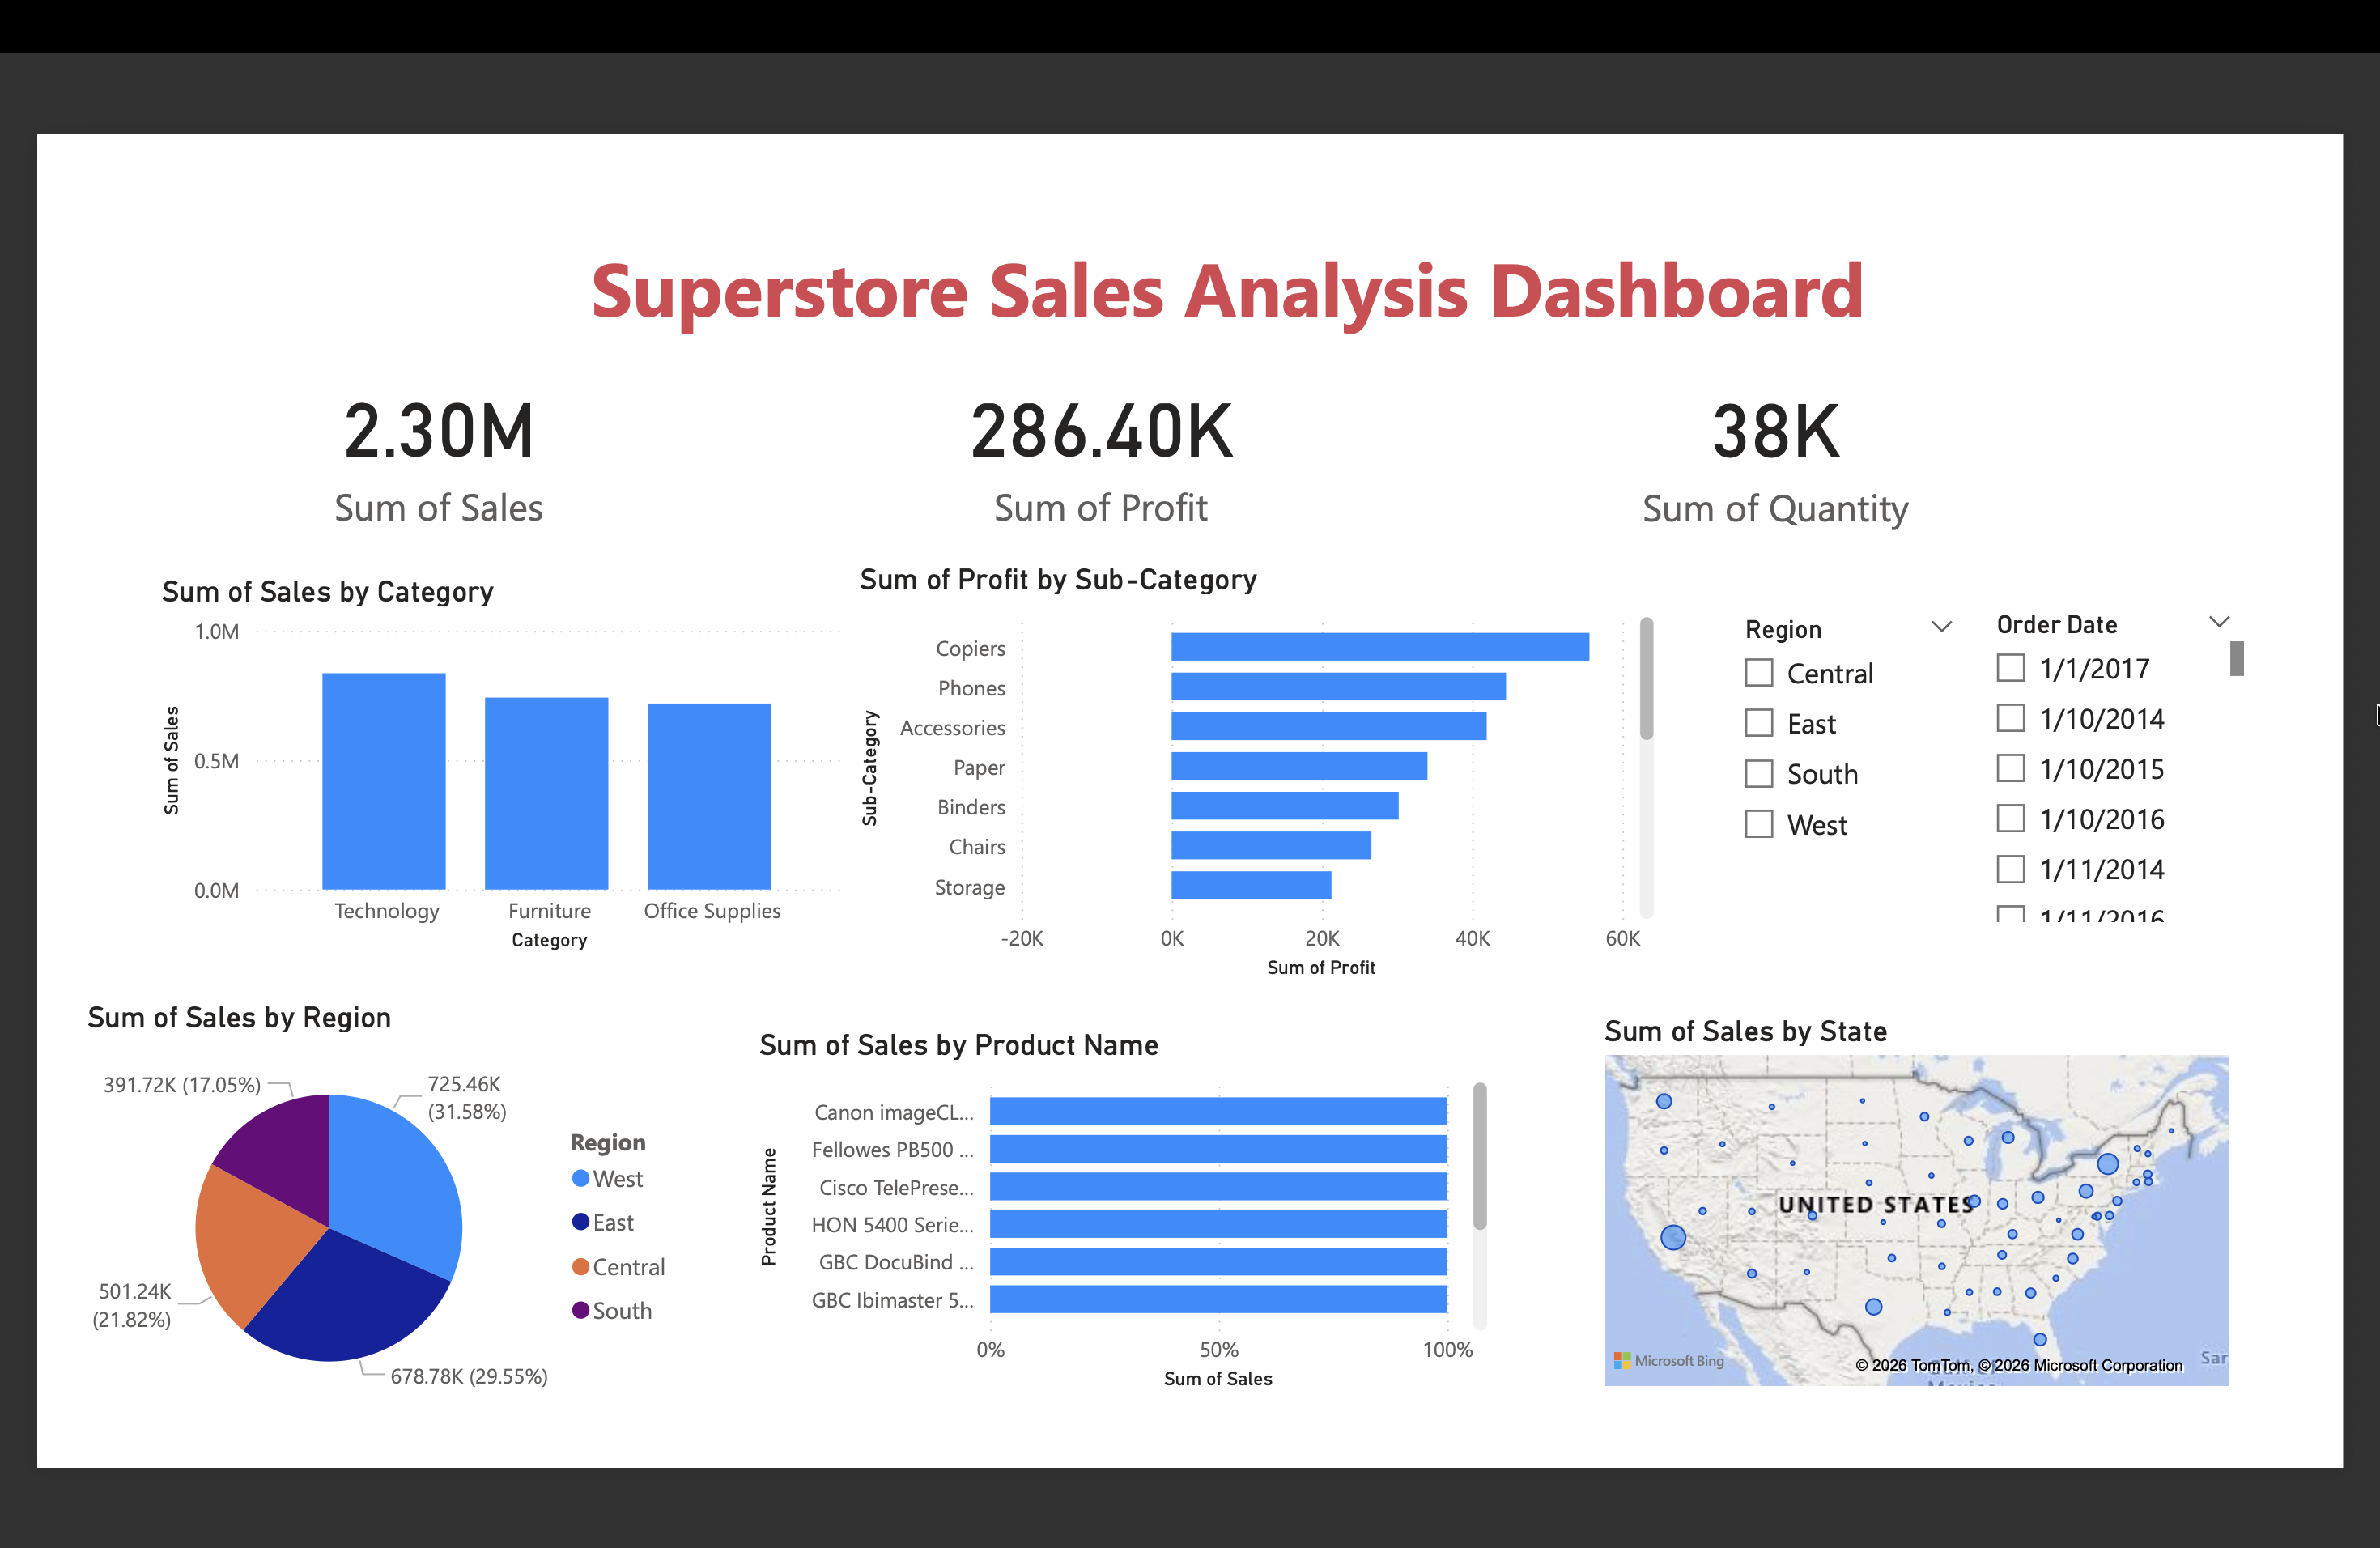

The dashboard page shown, as its layout file describes it:
{"tool":"powerbi","page":{"name":"Page 1","canvas":[1280,720],"ordinal":0},"visuals":[{"type":"clusteredColumnChart","fields":{"Category":["Sample - Superstore.Category"],"Y":["Sum(Sample - Superstore.Sales)"]},"box":[43.3,228.7,401.9,222],"z":0},{"type":"pieChart","fields":{"Category":["Sample - Superstore.Region"],"Y":["Sum(Sample - Superstore.Sales)"]},"box":[0,473.7,353.2,245],"z":1000},{"type":"slicer","fields":{"Values":["Sample - Superstore.Region"]},"box":[947.3,247.7,144.8,190.8],"z":2000},{"type":"card","fields":{"Values":["Sum(Sample - Superstore.Profit)"]},"box":[480.4,100.1,217.9,112.3],"z":3000},{"type":"clusteredBarChart","fields":{"Category":["Sample - Superstore.Sub-Category"],"Y":["Sum(Sample - Superstore.Profit)"]},"box":[445.3,222,466.9,245],"z":4000},{"type":"hundredPercentStackedBarChart","fields":{"Category":["Sample - Superstore.Product Name"],"Y":["Sum(Sample - Superstore.Sales)"]},"box":[387.1,489.9,429,213.8],"z":5000},{"type":"card","fields":{"Values":["Sum(Sample - Superstore.Sales)"]},"box":[131.3,100.1,152.9,112.3],"z":6000},{"type":"card","fields":{"Values":["Sum(Sample - Superstore.Quantity)"]},"box":[894.6,102.9,165.1,106.9],"z":7000},{"type":"map","fields":{"Category":["Sample - Superstore.State"],"Size":["Sum(Sample - Superstore.Sales)"]},"box":[874.3,481.8,369.5,220.6],"z":8000},{"type":"textbox","box":[289.6,29.8,817.4,101.5],"z":9000},{"type":"slicer","fields":{"Values":["Sample - Superstore.Order Date"]},"box":[1092.2,245,159.7,190.8],"z":10000}]}

Visuals, with their boxes on the page's 1280x720 design canvas (x1, y1, x2, y2). These are canvas units, not pixel positions in the 2380x1548 screenshot, which may show the page scaled, cropped or inside an application window:
clusteredColumnChart - Sample - Superstore.Category x Sum(Sample - Superstore.Sales): (x1=43, y1=229, x2=445, y2=451)
pieChart - Sample - Superstore.Region x Sum(Sample - Superstore.Sales): (x1=0, y1=474, x2=353, y2=719)
slicer - Sample - Superstore.Region: (x1=947, y1=248, x2=1092, y2=438)
card - Sum(Sample - Superstore.Profit): (x1=480, y1=100, x2=698, y2=212)
clusteredBarChart - Sample - Superstore.Sub-Category x Sum(Sample - Superstore.Profit): (x1=445, y1=222, x2=912, y2=467)
hundredPercentStackedBarChart - Sample - Superstore.Product Name x Sum(Sample - Superstore.Sales): (x1=387, y1=490, x2=816, y2=704)
card - Sum(Sample - Superstore.Sales): (x1=131, y1=100, x2=284, y2=212)
card - Sum(Sample - Superstore.Quantity): (x1=895, y1=103, x2=1060, y2=210)
map - Sample - Superstore.State x Sum(Sample - Superstore.Sales): (x1=874, y1=482, x2=1244, y2=702)
textbox: (x1=290, y1=30, x2=1107, y2=131)
slicer - Sample - Superstore.Order Date: (x1=1092, y1=245, x2=1252, y2=436)
